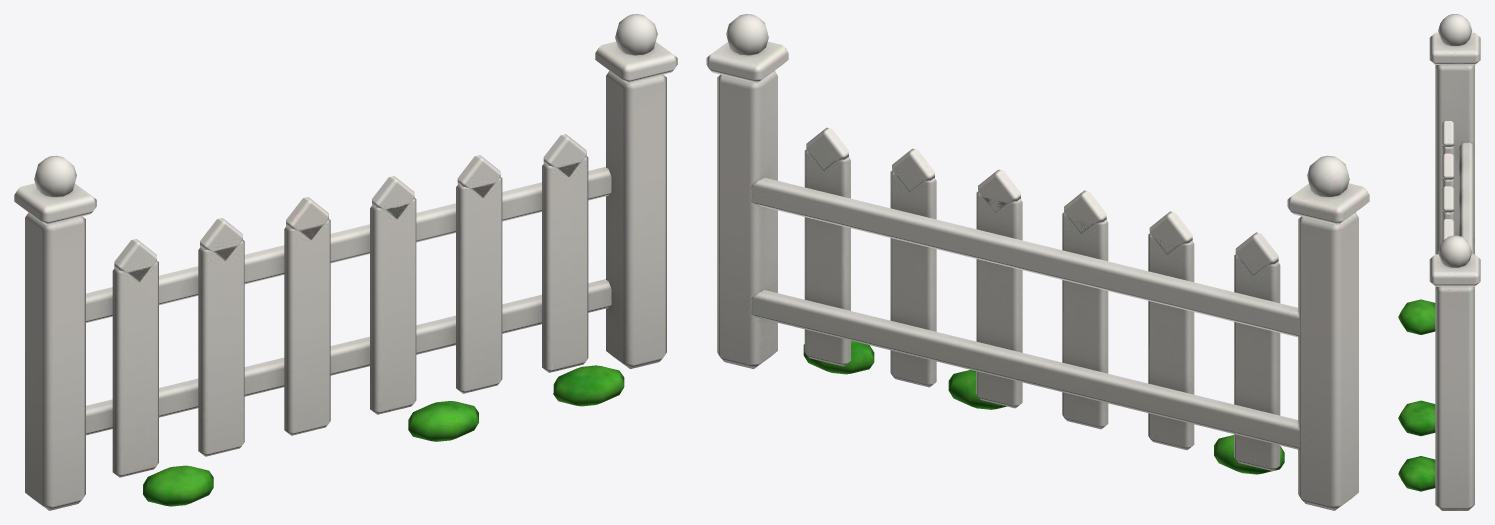
Rendered from picket_fence.glb.
3 renders of one model, left to right at view 1: azimuth 30°, elevation 25°; view 2: azimuth 150°, elevation 25°; view 3: azimuth 270°, elevation 25°, orthographic. The views are drawn at different scales.
Visible parts, largest first — view 1: picket_fence; view 2: picket_fence; view 3: picket_fence.
Part boxes in pixels (bbox=[...]): picket_fence: bbox=[14, 14, 677, 510]; picket_fence: bbox=[706, 14, 1369, 510]; picket_fence: bbox=[1398, 14, 1480, 510].
Bounding box in the file's own units: 1.01 × 0.534 × 0.145.
Materials: 1 (1 with a texture image).
